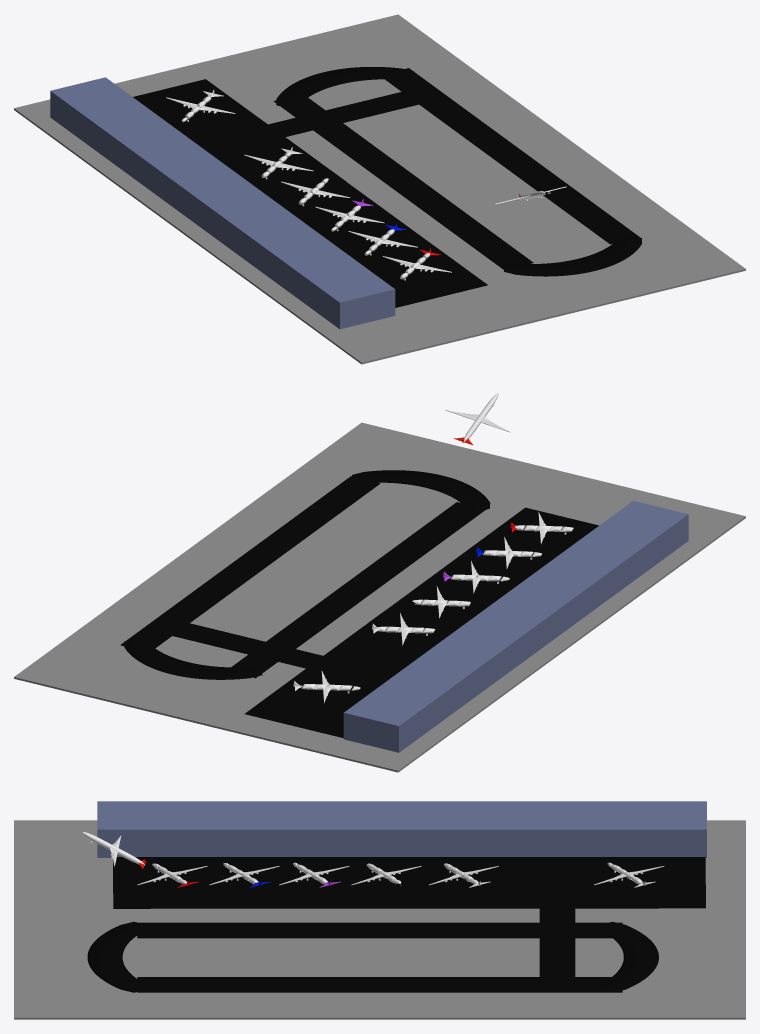
Rendered from airport.fbx.
3 renders of one model, top to bottom at view 1: azimuth 30°, elevation 25°; view 2: azimuth 150°, elevation 25°; view 3: azimuth 270°, elevation 25°, orthographic. The views are drawn at different scales.
Parts seen in each view (by area): view 1: Cube.005, Cube.006, Cube.003, Cube.004, Cube.001, Cube, Cube.002, NurbsCurve.001, NurbsCurve, Mball; view 2: Cube.005, Cube.006, Cube.003, Cube.004, Cube.001, Cube, Cube.002, Mball, NurbsCurve.001, NurbsCurve; view 3: Cube.005, Cube.006, Cube.003, Cube.004, Cube.001, Cube, Cube.002, NurbsCurve.001, NurbsCurve, Mball.
Boxes of the visible parts, x1,y1,x2,y2 form: Cube.005: (14,14,745,364); Cube.006: (50,77,395,329); Cube.003: (133,79,346,199); Cube.004: (274,182,487,307); Cube.001: (383,68,639,244); Cube: (273,96,533,269); Cube.002: (212,91,421,150); NurbsCurve.001: (504,234,641,276); NurbsCurve: (276,67,414,108); Mball: (181,96,544,279); Cube.005: (14,422,745,772); Cube.006: (343,501,688,752); Cube.003: (245,610,458,737); Cube.004: (385,507,598,628); Cube.001: (120,476,380,649); Cube: (229,502,485,678); Cube.002: (169,622,381,682); Mball: (301,393,573,690); NurbsCurve.001: (352,470,490,511); NurbsCurve: (124,638,262,679); Cube.005: (14,820,745,1019); Cube.006: (97,801,706,857); Cube.003: (409,857,705,908); Cube.004: (113,857,409,908); Cube.001: (137,977,622,992); Cube: (137,922,622,938); Cube.002: (539,879,575,978); NurbsCurve.001: (87,921,148,992); NurbsCurve: (597,921,658,992); Mball: (82,832,642,885).
Size of the model in its own units: 40501 by 9682 by 63456.
